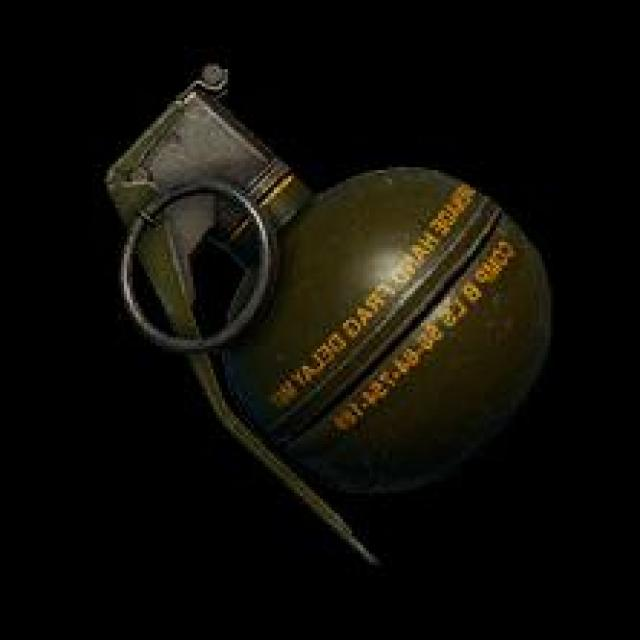grenade: (108, 67, 557, 571)
